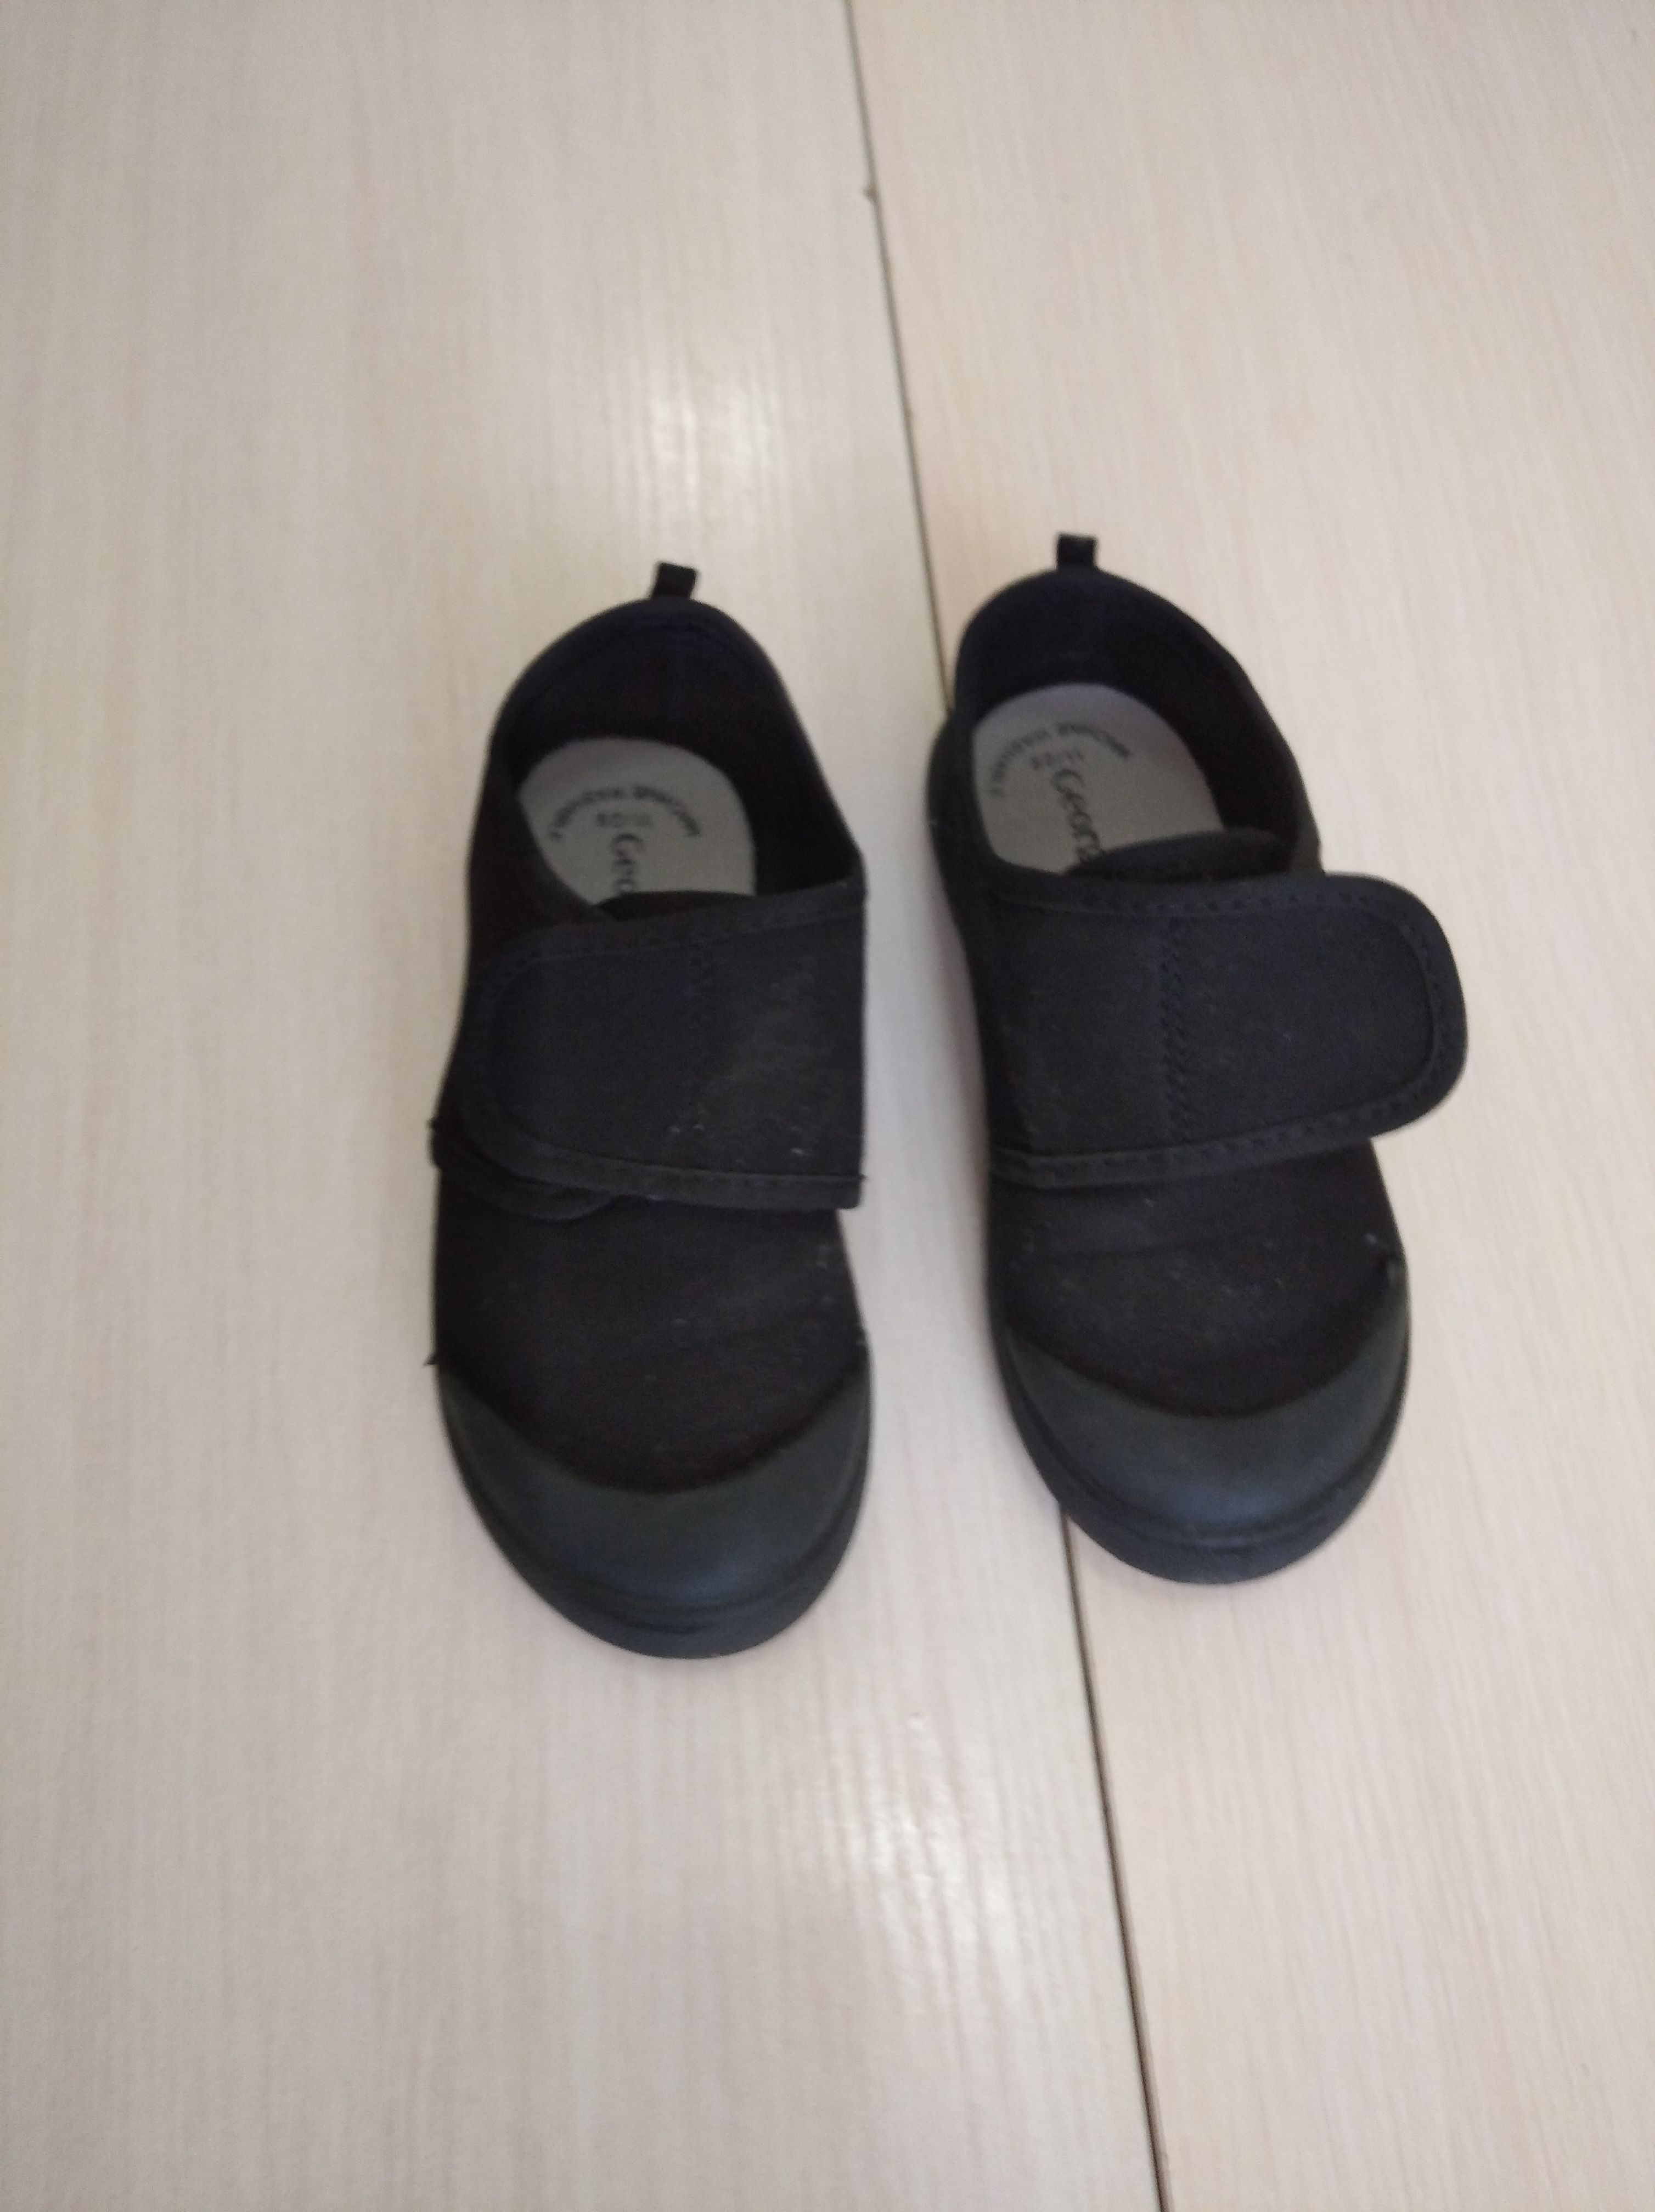clothes: (428, 530, 1452, 1652)
